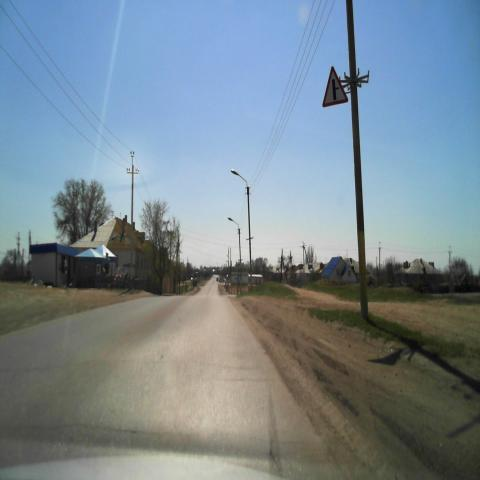2_3_2: (319, 64, 348, 108)
